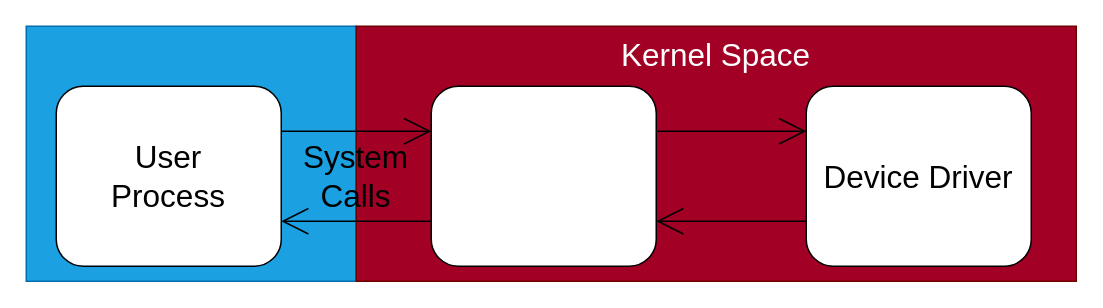
Some shapes in this 1103 by 308 pixel diagram are drawn without their labels. The shapes that lost their labels are listed below. From the top down, each one's box as (x1, y1, x2, y2) in pixels, then its label:
(25, 25, 356, 281): User Space
(430, 85, 656, 266): VFS
